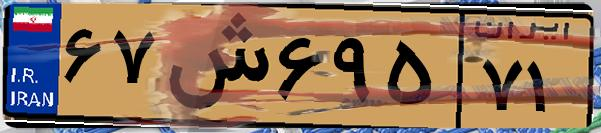1: (525, 38, 570, 115)
5: (385, 28, 445, 110)
6: (270, 28, 330, 110), (57, 26, 110, 100)
7: (475, 38, 525, 113), (110, 28, 158, 98)
9: (330, 28, 385, 110)
ش: (158, 12, 270, 120)
